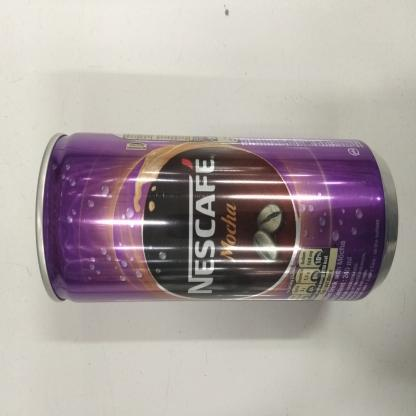can: (31, 123, 402, 304)
